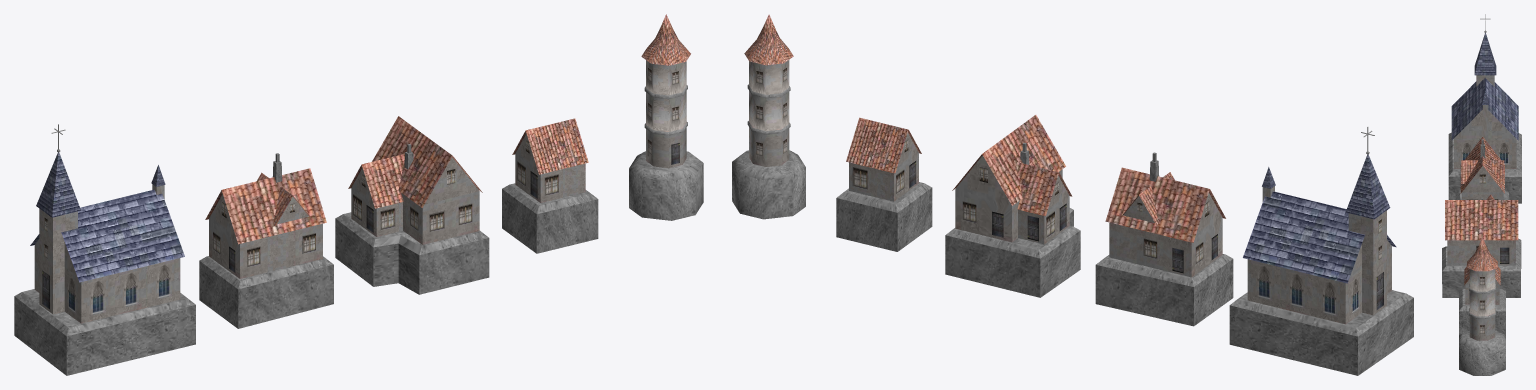
The model's file is buildings.glb.
The picture shows the model from 3 angles, left to right: view 1: azimuth 30°, elevation 25°; view 2: azimuth 150°, elevation 25°; view 3: azimuth 270°, elevation 25°; orthographic projection. The views are drawn at different scales.
Visible parts, largest first — view 1: Building_Church_01, Building_Big_House_01, Building_Medium_House_01, Building_Small_House_01, Building_Tower_01; view 2: Building_Church_01, Building_Big_House_01, Building_Medium_House_01, Building_Small_House_01, Building_Tower_01; view 3: Building_Church_01, Building_Big_House_01, Building_Tower_01, Building_Medium_House_01, Building_Small_House_01.
Boxes of the visible parts, x1,y1,x2,y2 form: Building_Church_01: [14, 124, 195, 375]; Building_Big_House_01: [335, 116, 489, 294]; Building_Medium_House_01: [199, 153, 333, 328]; Building_Small_House_01: [502, 118, 598, 253]; Building_Tower_01: [629, 14, 703, 220]; Building_Church_01: [1229, 127, 1413, 375]; Building_Big_House_01: [945, 115, 1080, 297]; Building_Medium_House_01: [1095, 152, 1233, 326]; Building_Small_House_01: [836, 117, 932, 251]; Building_Tower_01: [732, 14, 805, 219]; Building_Church_01: [1448, 14, 1521, 203]; Building_Big_House_01: [1442, 194, 1521, 297]; Building_Tower_01: [1459, 237, 1505, 375]; Building_Medium_House_01: [1455, 137, 1509, 199]; Building_Small_House_01: [1459, 266, 1505, 334].
Bounding box in the file's own units: 75.9 × 25.11 × 11.9.
1 material, 1 textured.
